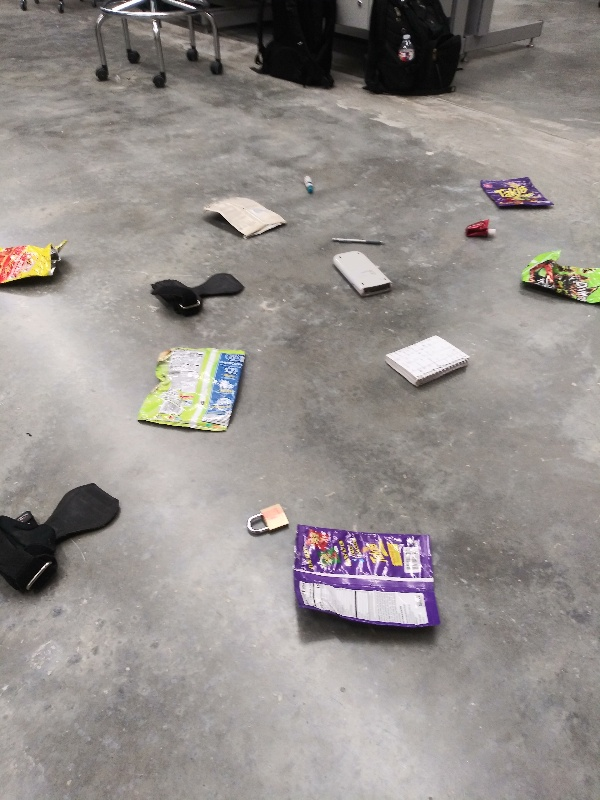bag: (275, 516, 453, 650), (130, 341, 259, 444), (514, 244, 600, 312), (199, 190, 294, 242), (1, 234, 71, 292), (473, 174, 558, 216)
bottle: (394, 30, 418, 63)
